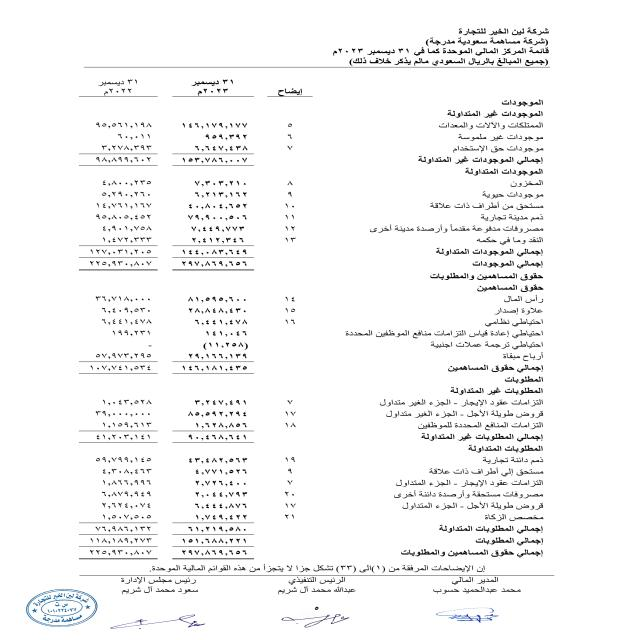financial_sheets: (439, 46, 552, 58)
table: (54, 77, 304, 563)
